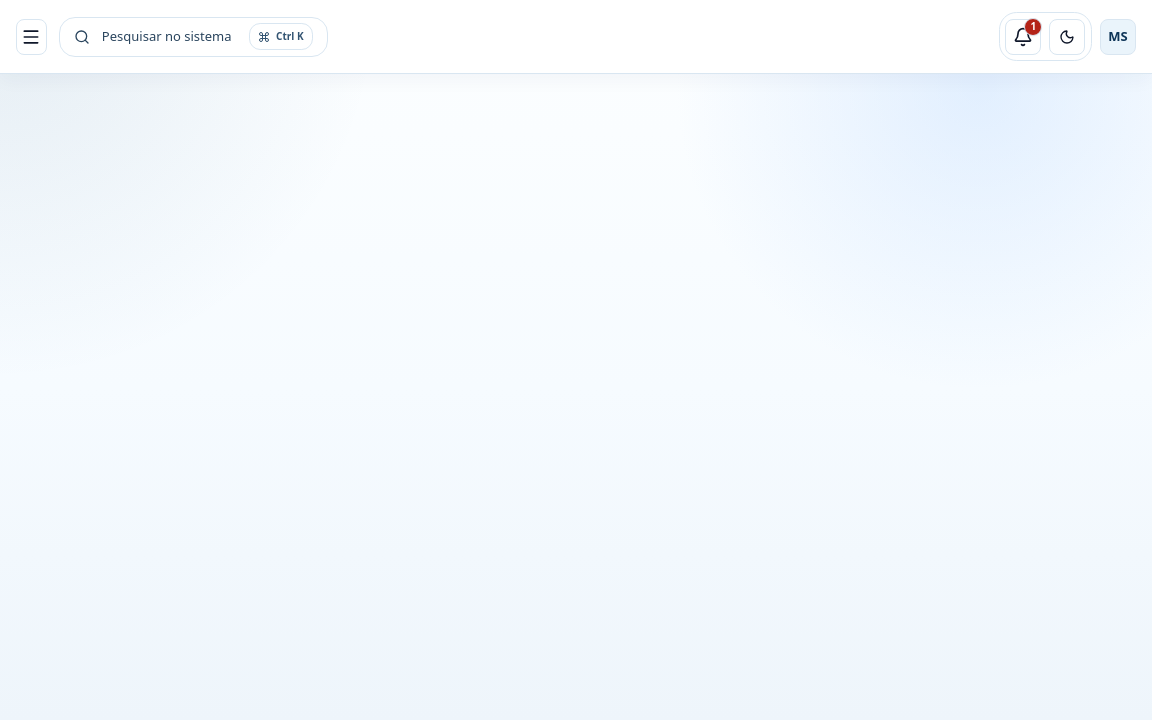
Test: Header › exibe aviso honesto quando a lista de notificações degrada
Click the button named "Notificações": (1023, 37) [1005, 19, 1041, 55]
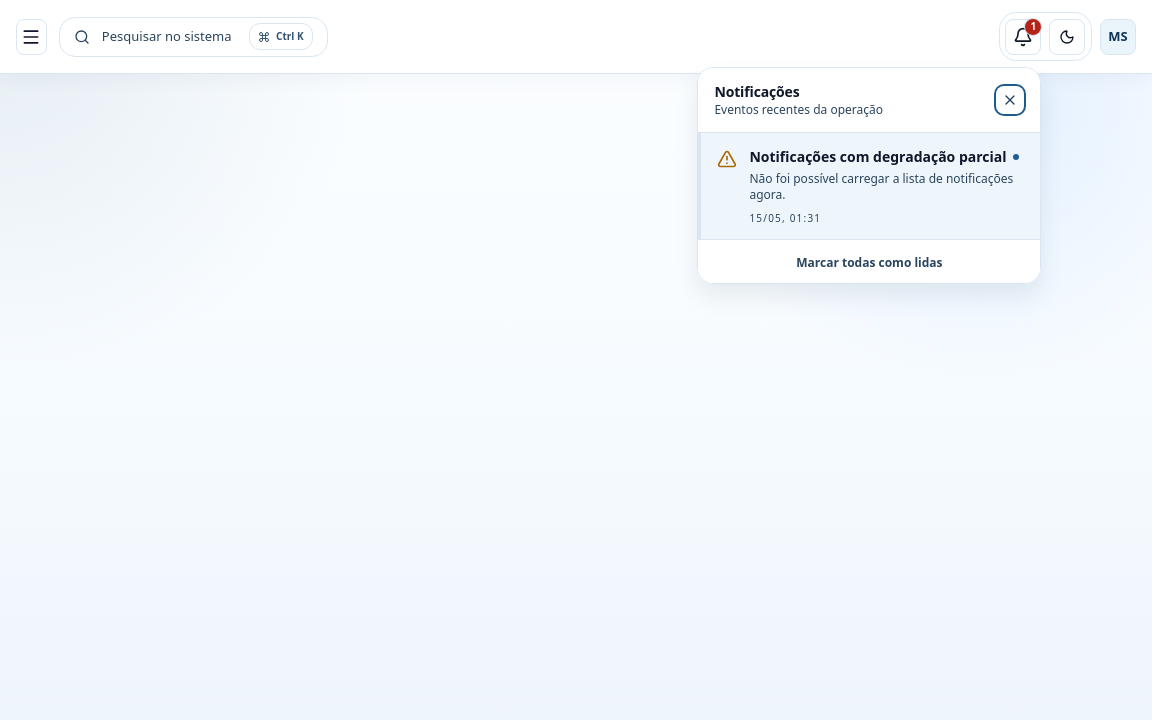
expect the text "Notificações com degradação parcial" is shown: met, box [749, 147, 1006, 167]
expect the text "Não foi possível carregar a lista de notificações agora." is shown: met, box [749, 171, 1024, 203]
